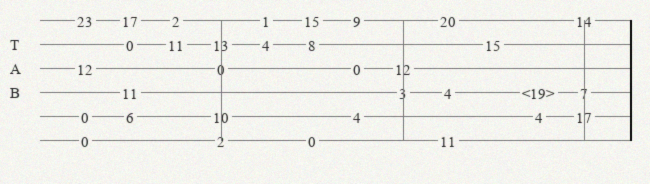0: (81, 133, 93, 147), (81, 109, 93, 123), (126, 37, 138, 51), (217, 61, 229, 75), (308, 133, 320, 147), (353, 61, 365, 75)
1: (262, 13, 274, 27)
10: (213, 109, 233, 123)
11: (122, 85, 142, 99), (168, 37, 188, 51), (440, 133, 460, 147)
12: (77, 61, 97, 75), (395, 61, 415, 75)
13: (213, 37, 233, 51)
14: (576, 13, 596, 27)
15: (304, 13, 324, 27), (485, 37, 505, 51)
17: (122, 13, 142, 27), (576, 109, 596, 123)
2: (172, 13, 184, 27), (217, 133, 229, 147)
20: (440, 13, 460, 27)
23: (77, 13, 97, 27)
3: (399, 85, 411, 99)
4: (262, 37, 274, 51), (353, 109, 365, 123), (444, 85, 456, 99), (535, 109, 547, 123)
6: (126, 109, 138, 123)
7: (580, 85, 592, 99)
8: (308, 37, 320, 51)
9: (353, 13, 365, 27)
harmonic: (522, 85, 559, 99)
